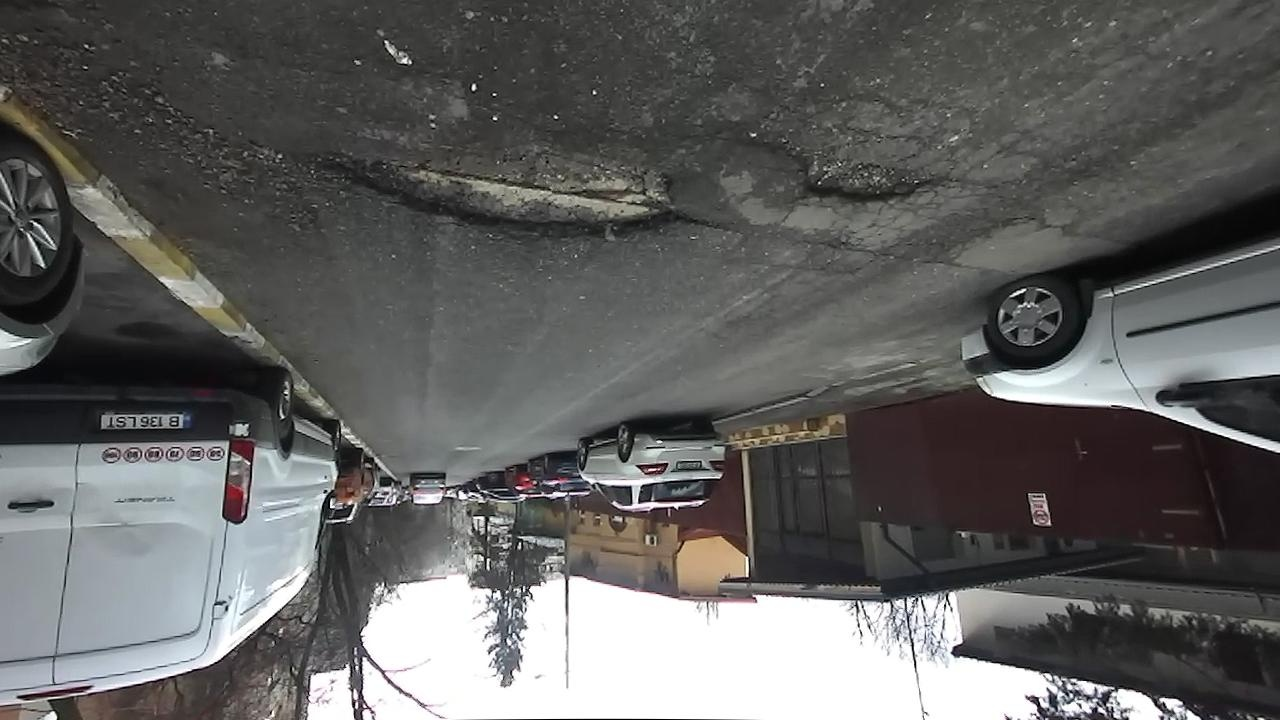pothole: (298, 125, 696, 248), (756, 136, 941, 210)
